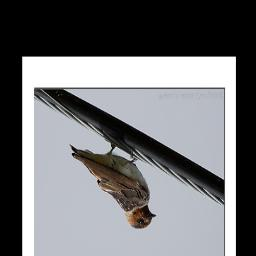Swallow: (67, 139, 157, 231)
